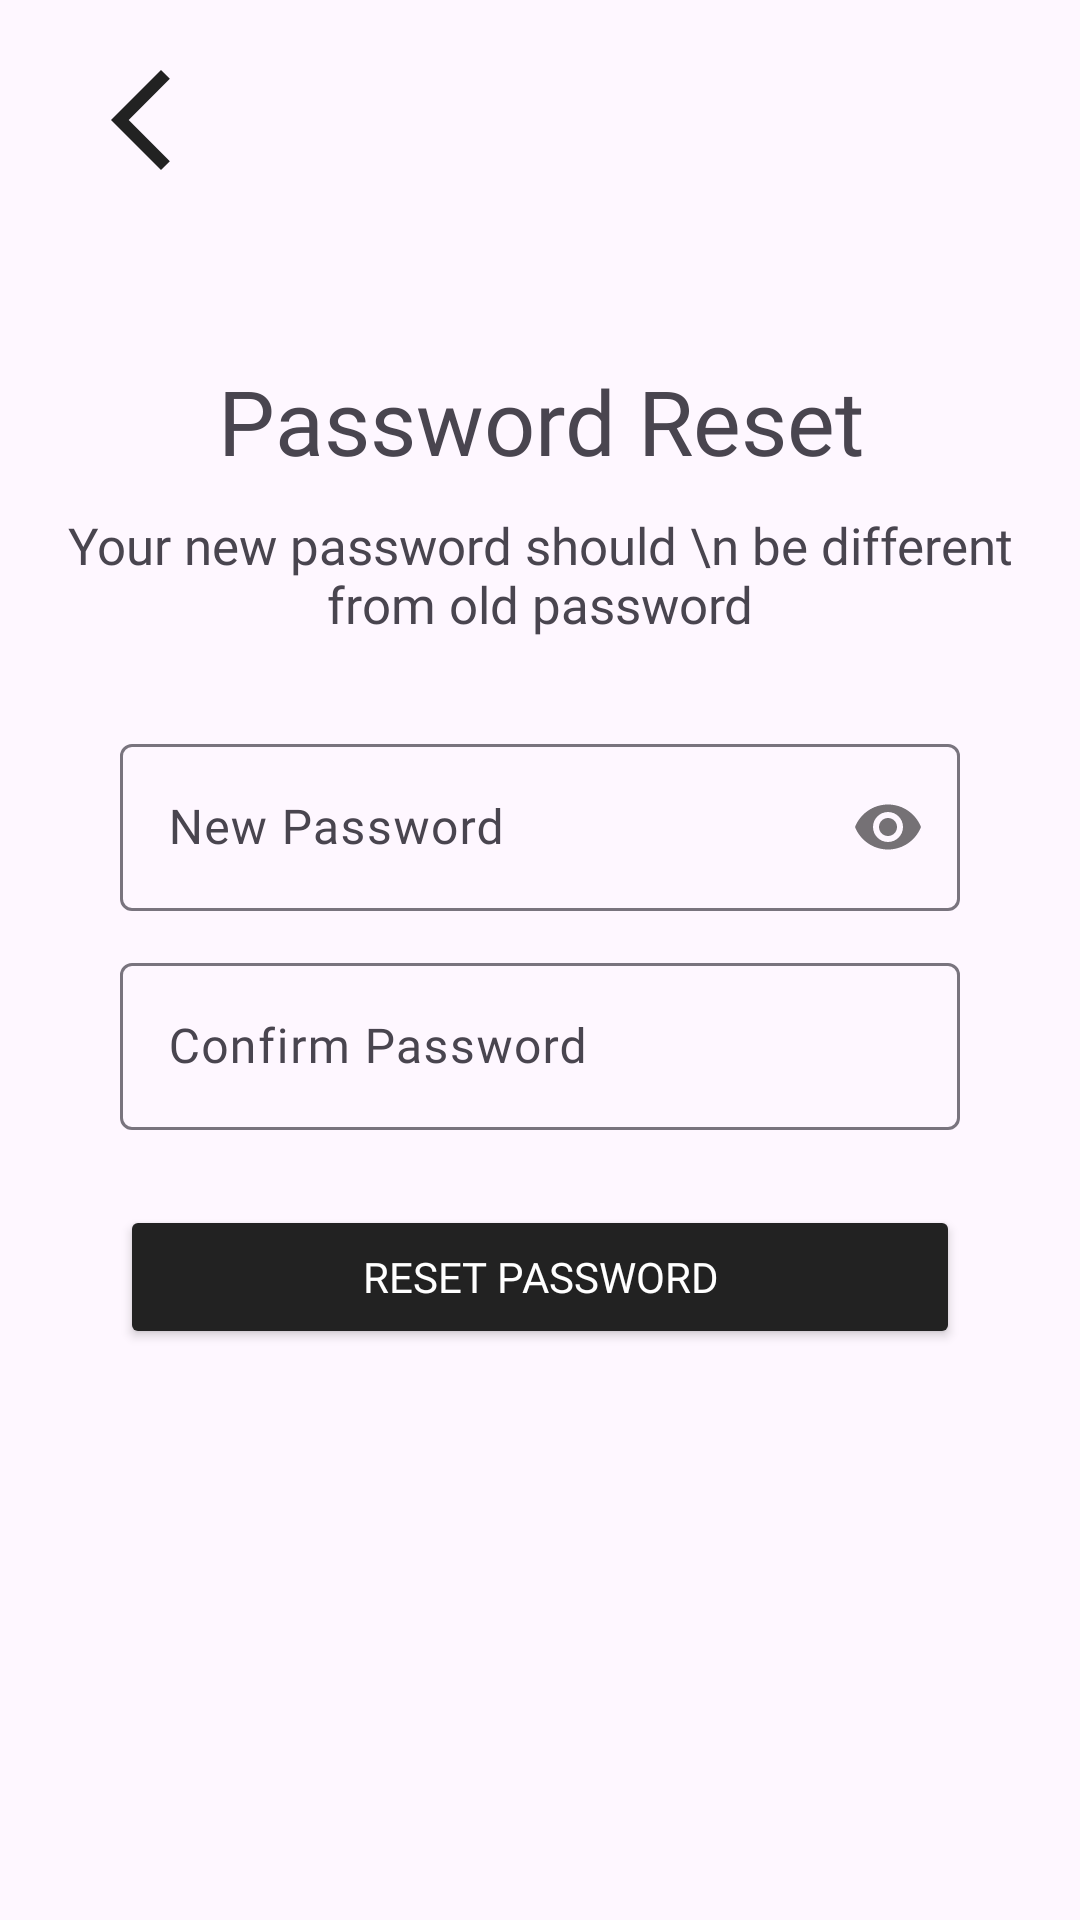

Where to tap for icons on this 1080 × 1920 app screen, as point (x, y):
arrow left: point (140, 120)
